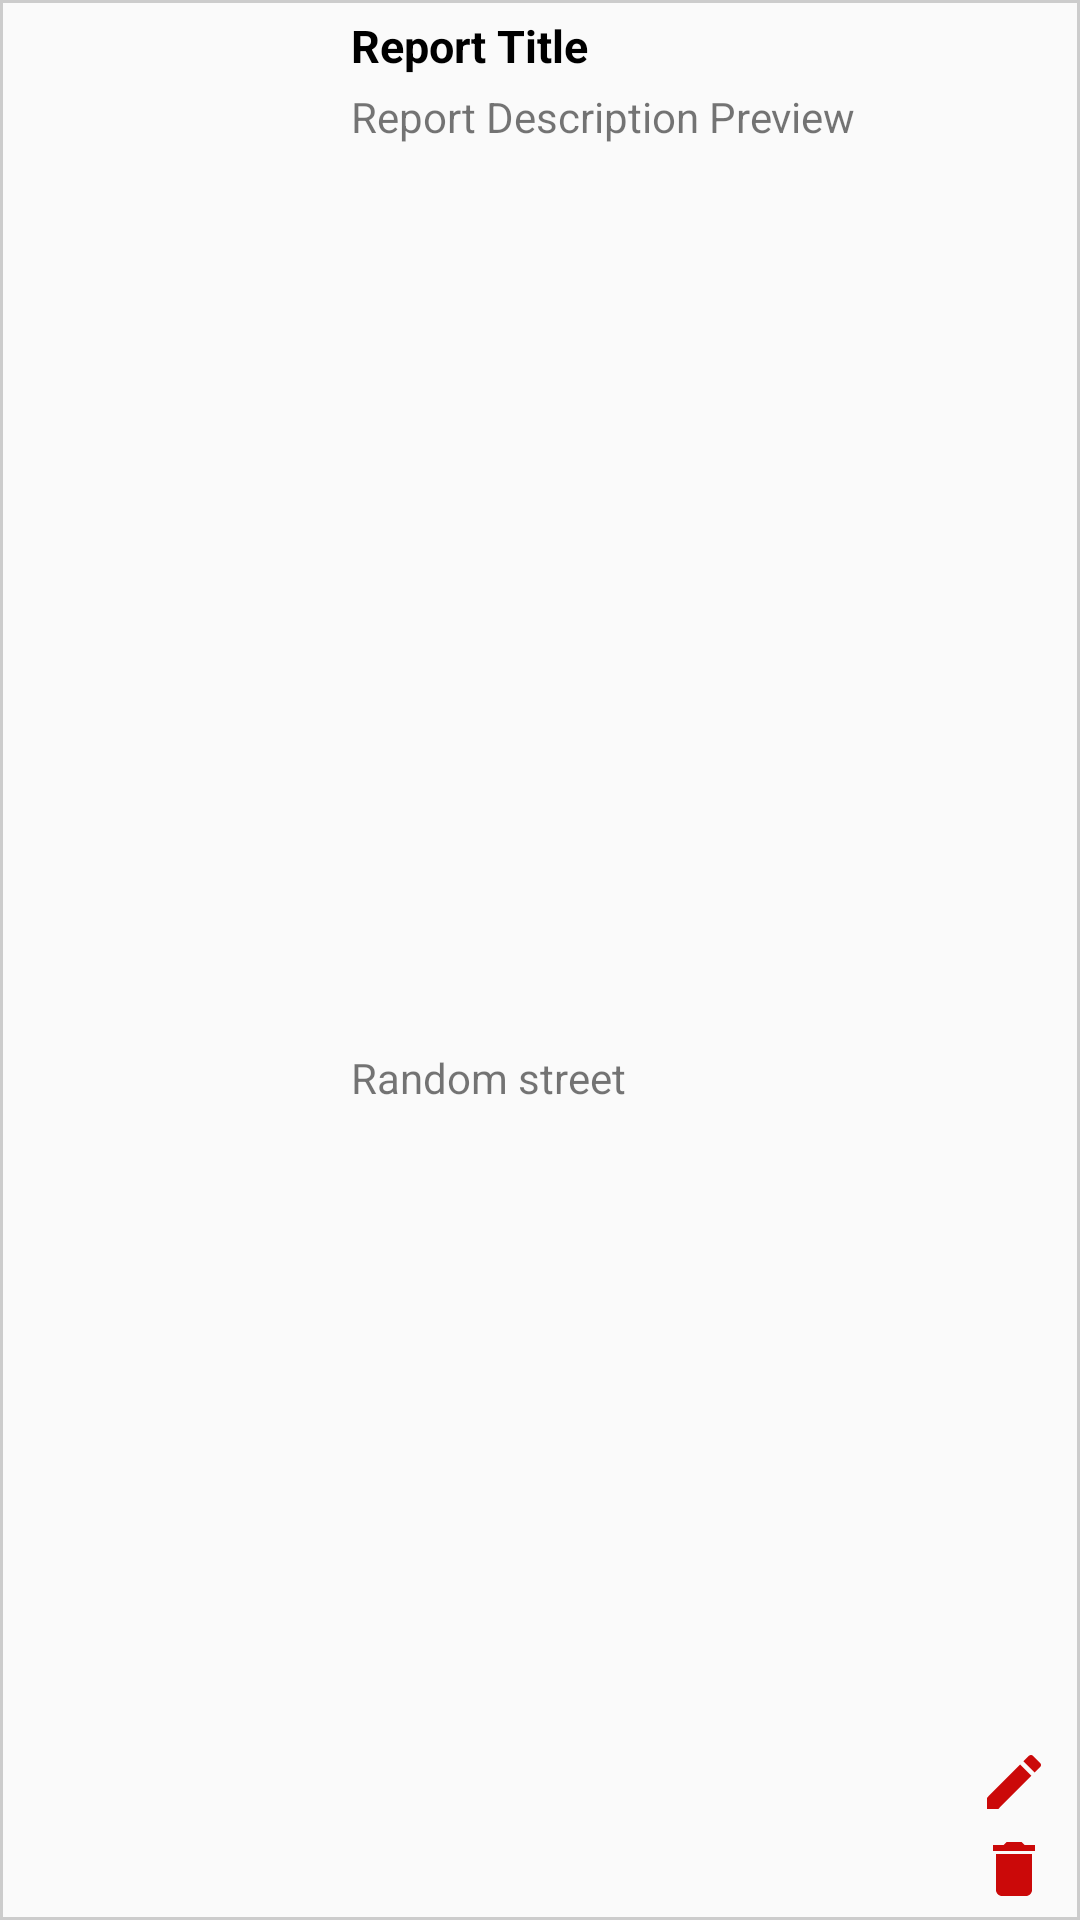

Icons on this 1080*1920 Android screen, each with the point to tap as [x,y]:
delete: [1014,1869]
edit: [1014,1782]
